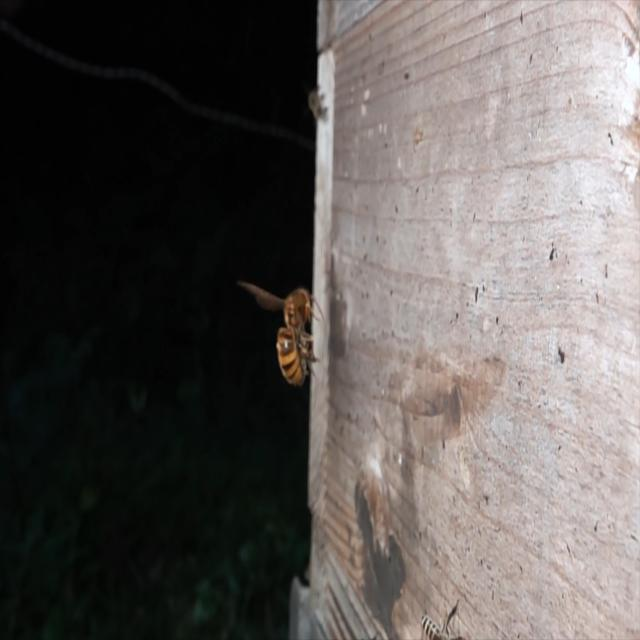Hornets: (246, 279, 322, 389)
